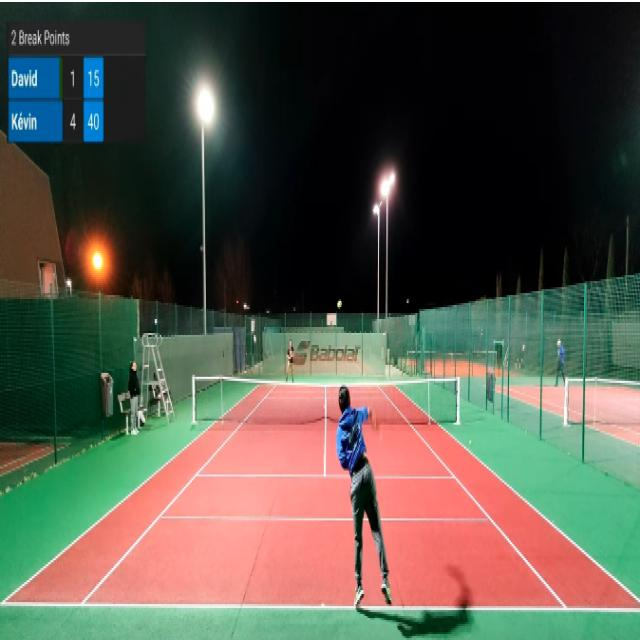ball: (337, 298, 342, 309)
